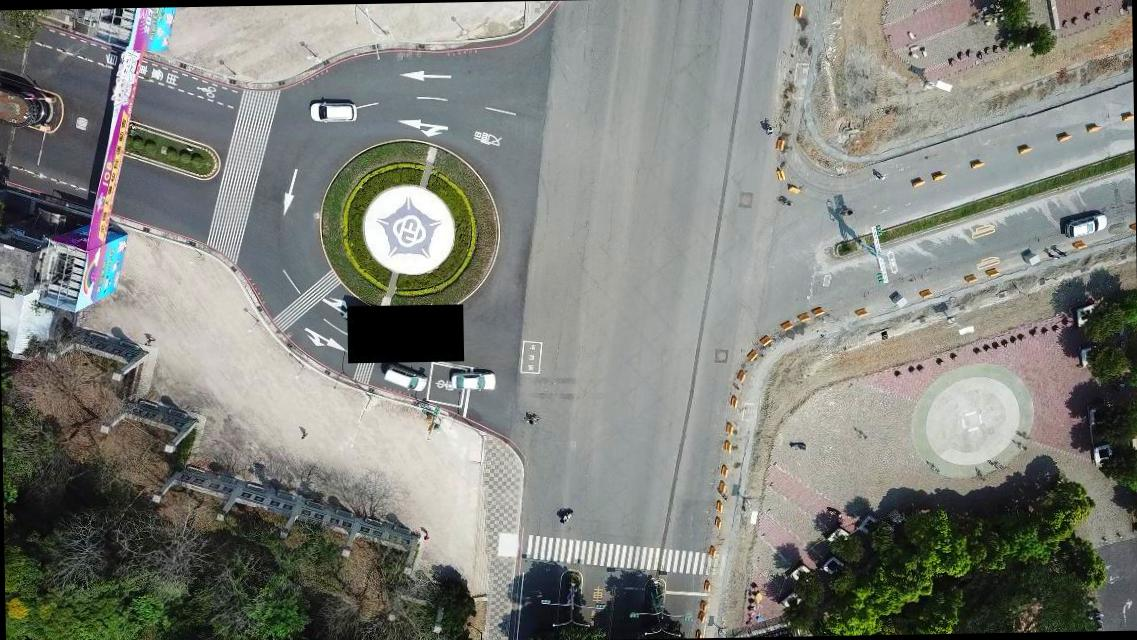vehicle: (384, 362, 427, 392), (310, 100, 358, 124), (449, 370, 496, 391), (1064, 214, 1108, 236)
